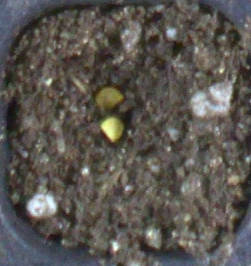pepper seed: (37, 44, 163, 188), (33, 28, 156, 143)
